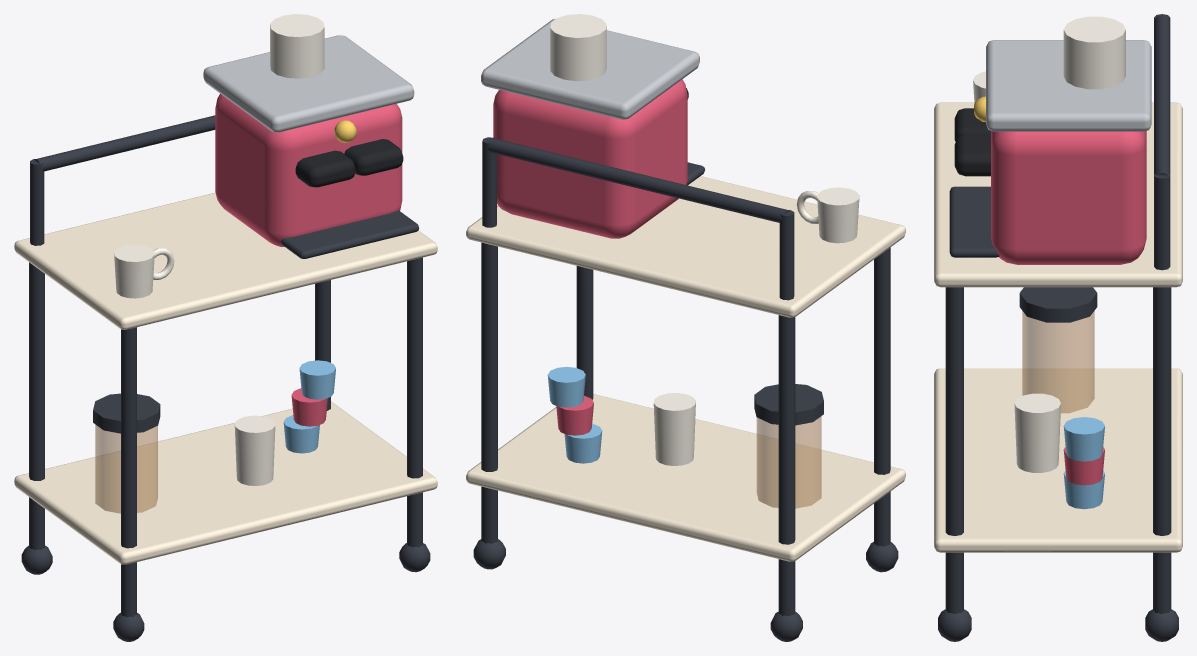
Rendered from cart-coffee.glb.
The picture shows the model from 3 angles, left to right: view 1: azimuth 30°, elevation 25°; view 2: azimuth 150°, elevation 25°; view 3: azimuth 270°, elevation 25°; orthographic projection. The views are drawn at different scales.
Bounding box in the file's own units: 0.8 × 1.24 × 0.48.
